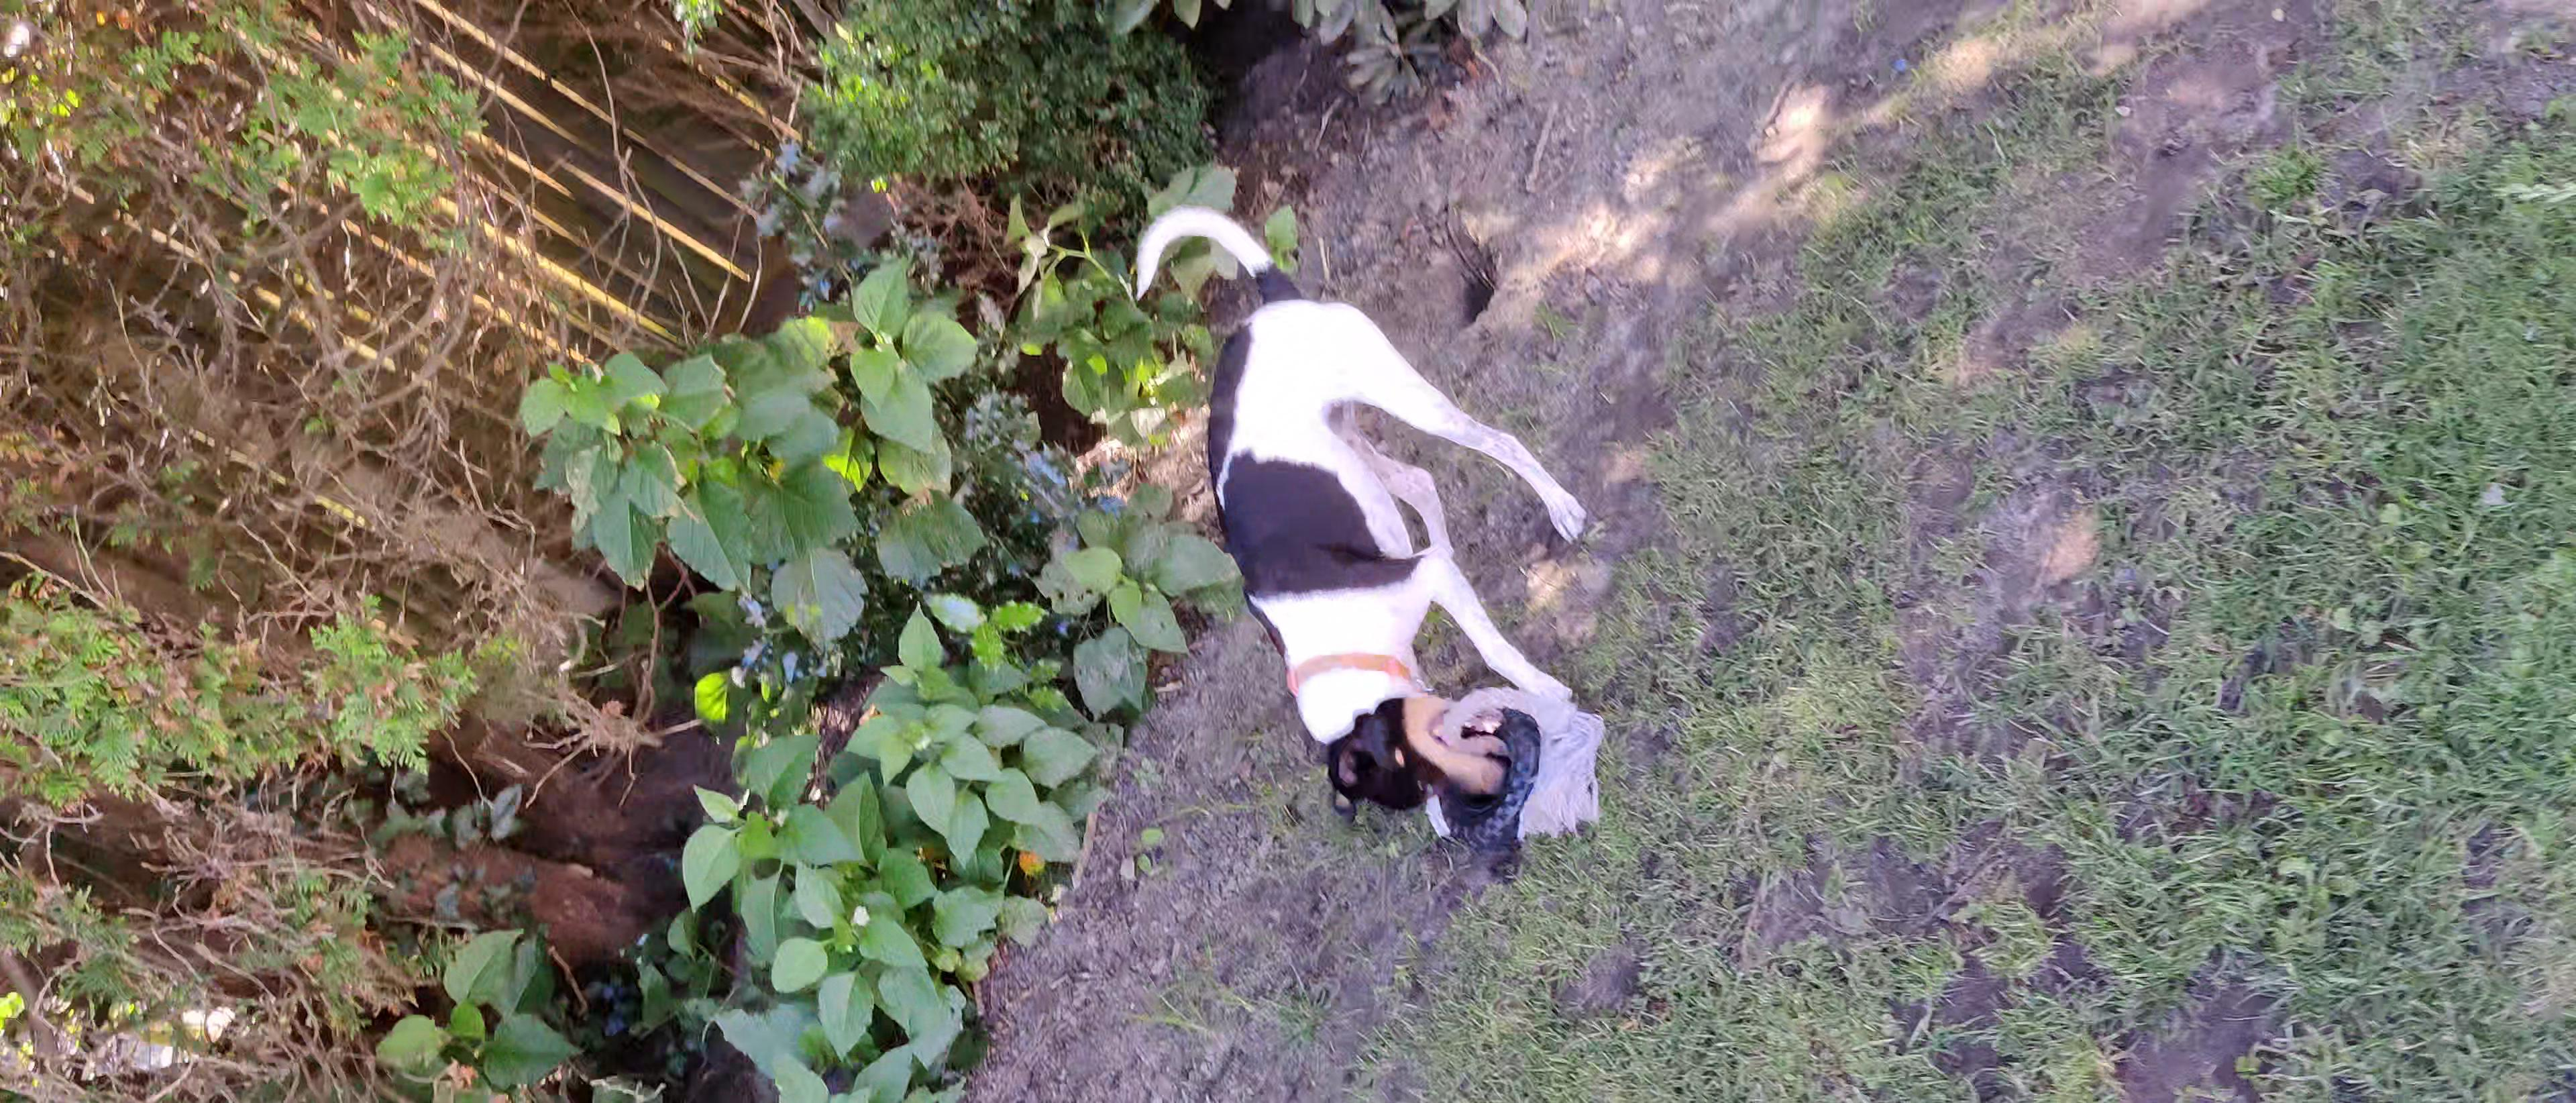Dog: (1115, 202, 1595, 819)
